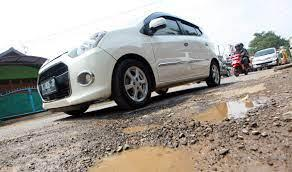Pothole: (63, 136, 196, 172), (175, 94, 275, 126), (115, 114, 172, 136)
